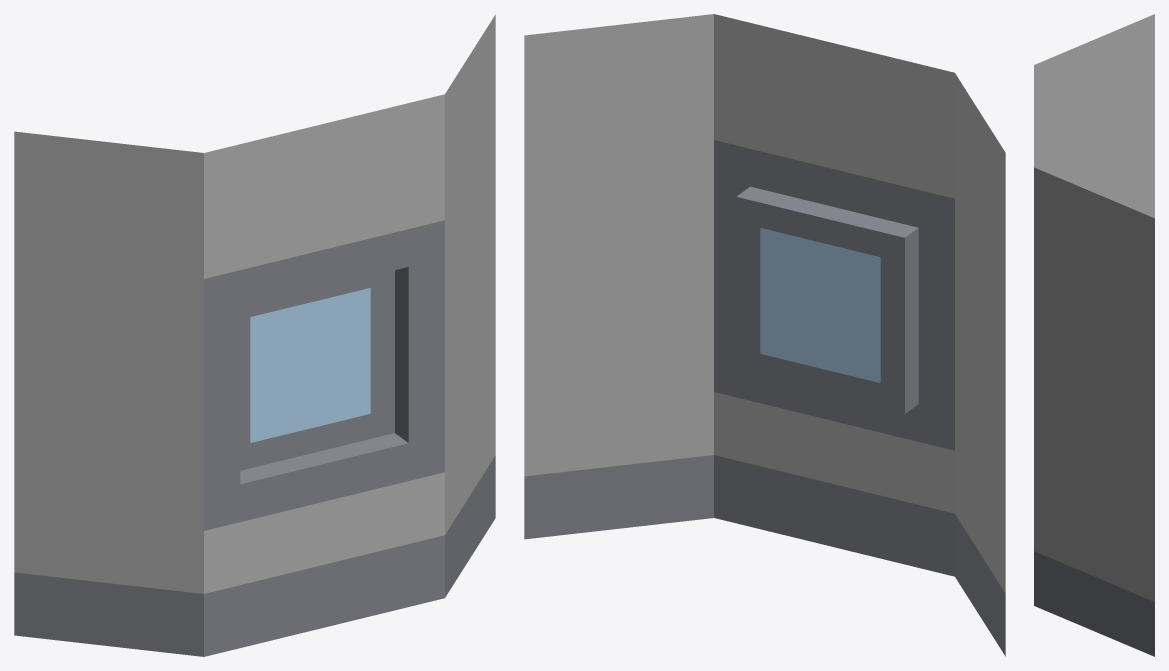
The model's file is wall_windowF.fbx.
3 renders of one model, left to right at view 1: azimuth 30°, elevation 25°; view 2: azimuth 150°, elevation 25°; view 3: azimuth 270°, elevation 25°, orthographic. The views are drawn at different scales.
Parts seen in each view (by area): view 1: wall_windowF; view 2: wall_windowF; view 3: wall_windowF.
Part boxes in pixels (bbox=[...]): wall_windowF: bbox=[14, 14, 495, 656]; wall_windowF: bbox=[524, 14, 1005, 656]; wall_windowF: bbox=[1034, 14, 1154, 656].
Size of the model in its own units: 4 by 4 by 1.
